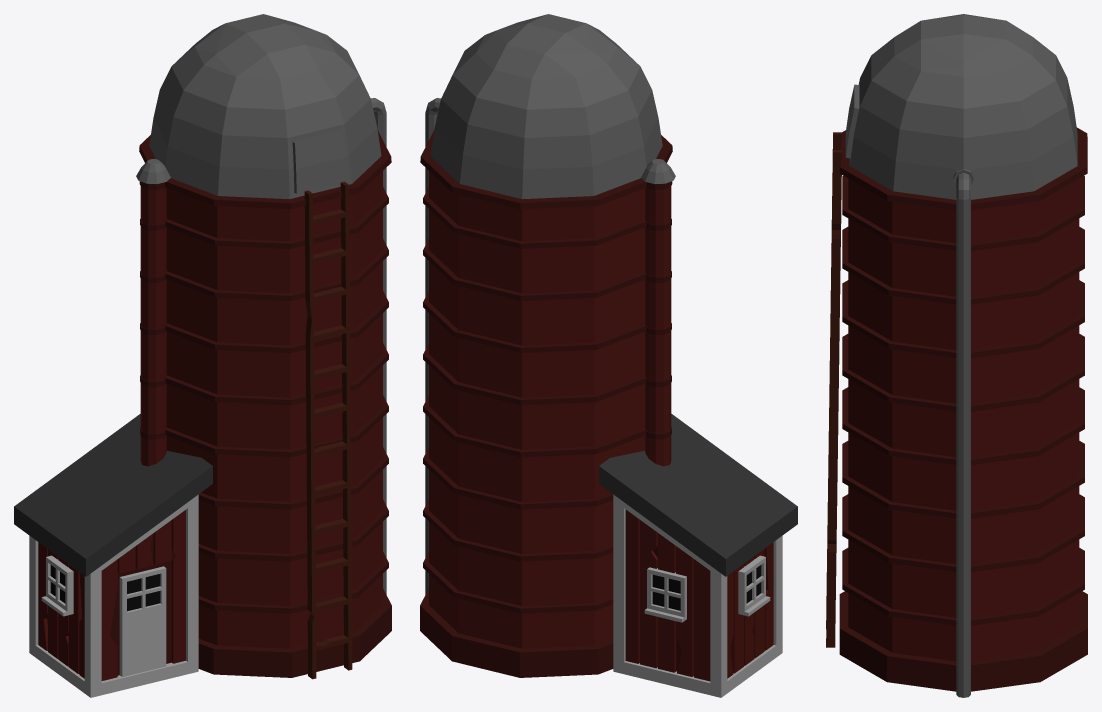
The model's file is Silo_House.obj.
3 renders of one model, left to right at view 1: azimuth 30°, elevation 25°; view 2: azimuth 150°, elevation 25°; view 3: azimuth 270°, elevation 25°, orthographic. The views are drawn at different scales.
Visible parts, largest first — view 1: Silo_House; view 2: Silo_House; view 3: Silo_House.
Boxes of the visible parts, left/top/right/bottom form: Silo_House: left=14, top=14, right=391, bottom=697; Silo_House: left=420, top=14, right=797, bottom=697; Silo_House: left=826, top=14, right=1087, bottom=697.
Size of the model in its own units: 5.34 by 9.07 by 3.51.
